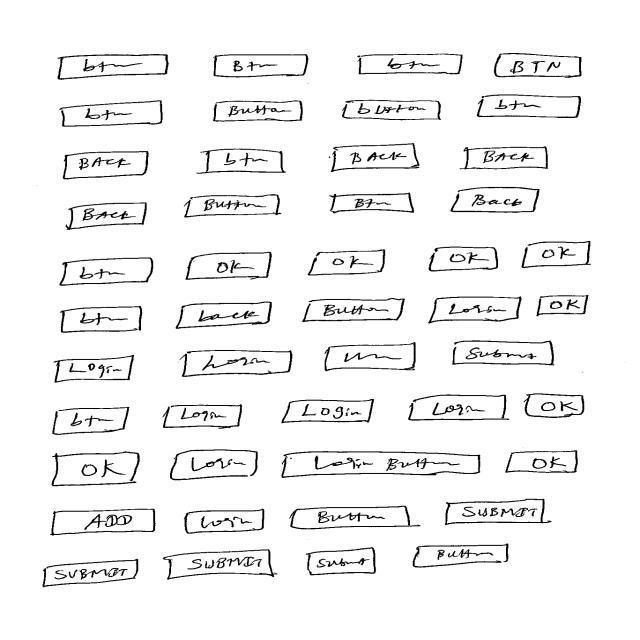button: (57, 54, 171, 81), (412, 545, 510, 569)
